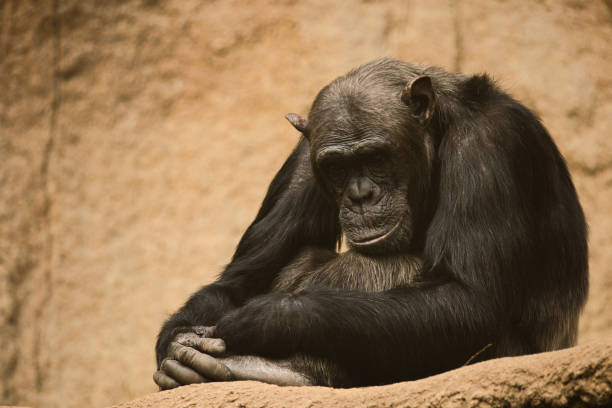chimpanzee: (231, 51, 468, 270)
